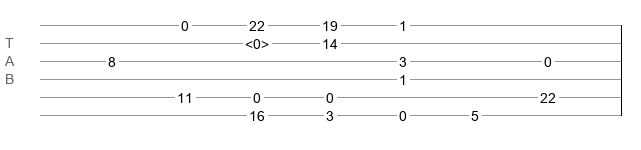0: (181, 18, 189, 28), (253, 90, 261, 100), (326, 90, 334, 100), (399, 108, 407, 118), (544, 54, 552, 64)
1: (399, 72, 407, 82), (399, 18, 407, 28)
11: (177, 90, 193, 100)
14: (322, 36, 338, 46)
16: (249, 108, 265, 118)
19: (322, 18, 338, 28)
22: (249, 18, 265, 28), (540, 90, 556, 100)
3: (326, 108, 334, 118), (399, 54, 407, 64)
5: (471, 108, 479, 118)
8: (108, 54, 116, 64)
harmonic: (245, 36, 269, 46)
